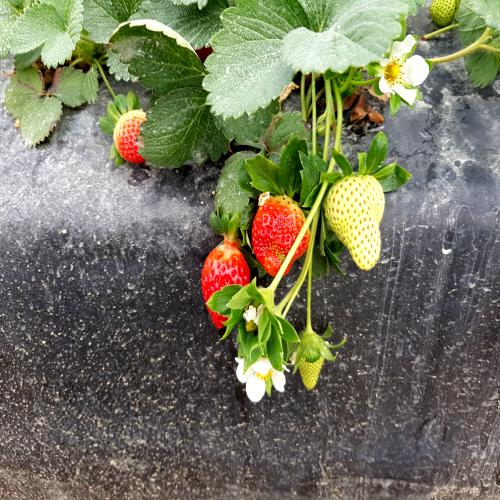partially-ripe: (104, 102, 164, 172)
ripe: (196, 235, 258, 336), (252, 181, 312, 279)
unripe: (320, 158, 397, 277)
